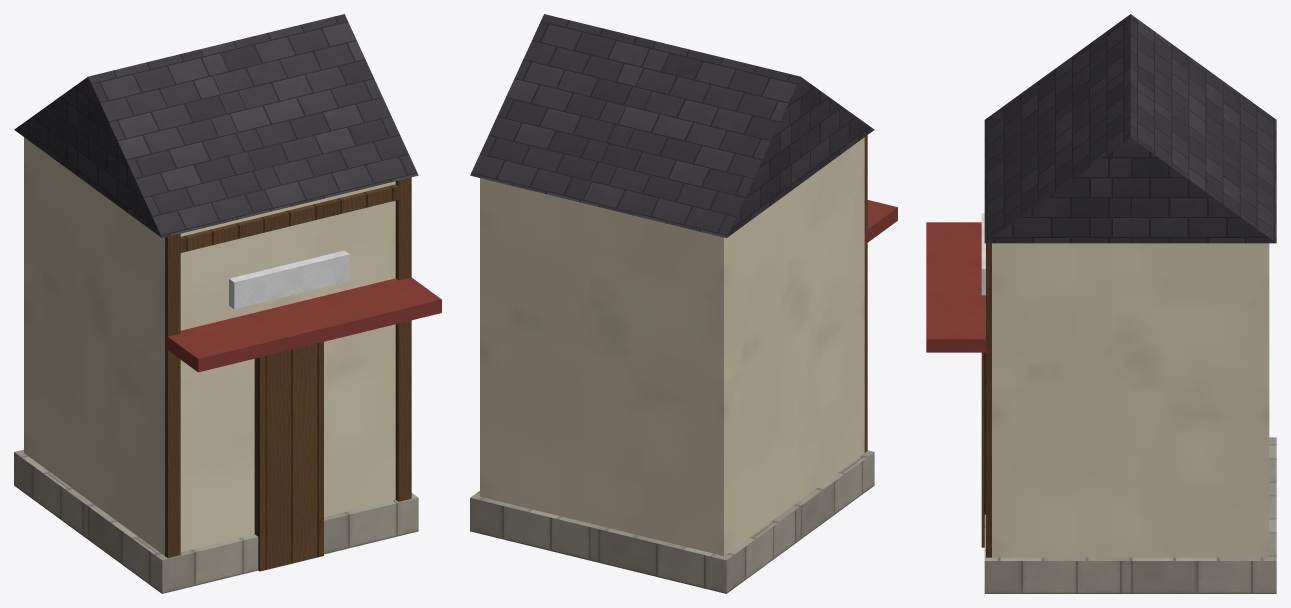
File: category.dex.t1.glb
3 views of the same model, side by side, from view 1: azimuth 30°, elevation 25°; view 2: azimuth 150°, elevation 25°; view 3: azimuth 270°, elevation 25° (orthographic).
Parts seen in each view (by area): view 1: building.category.dex.t1; view 2: building.category.dex.t1; view 3: building.category.dex.t1.
Boxes of the visible parts, <box> form: building.category.dex.t1: <box>14,14,441,593</box>; building.category.dex.t1: <box>470,14,897,593</box>; building.category.dex.t1: <box>926,14,1276,593</box>.
Bounding box in the file's own units: 2 × 3.45 × 2.4.
6 materials, 6 textured.
